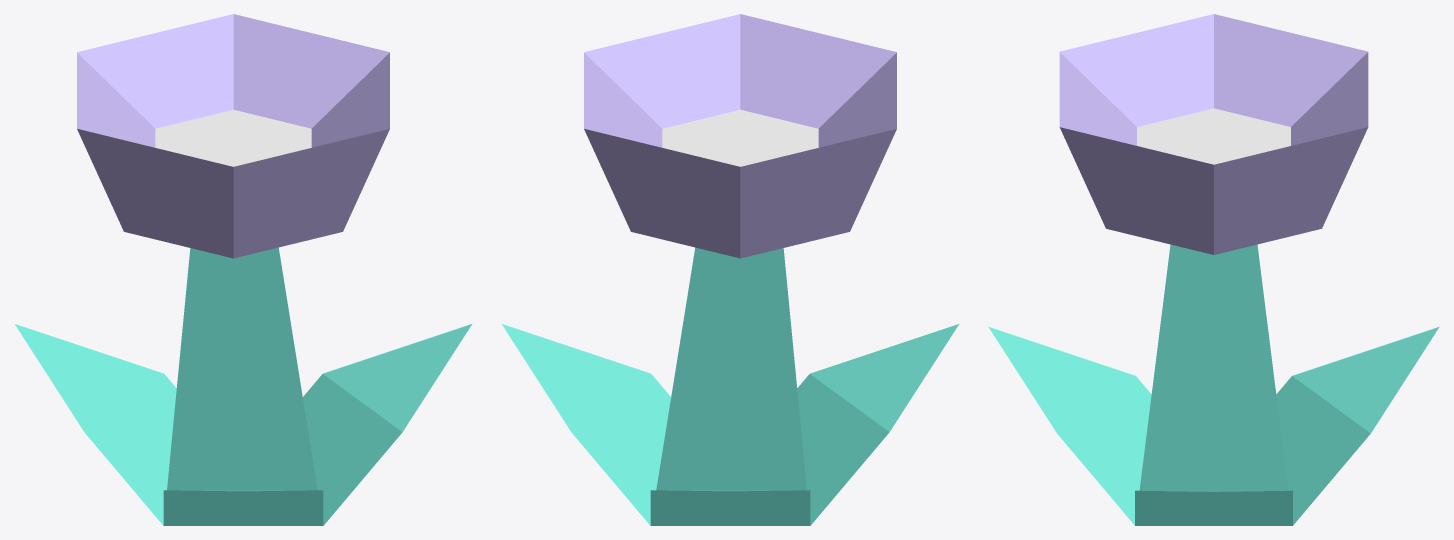
The model's file is flower_purpleC.gltf.
3 renders of one model, left to right at view 1: azimuth 30°, elevation 25°; view 2: azimuth 150°, elevation 25°; view 3: azimuth 270°, elevation 25°, orthographic.
Visible parts, largest first — view 1: flower_purpleC; view 2: flower_purpleC; view 3: flower_purpleC.
Boxes of the visible parts, <box> form: flower_purpleC: <box>15,14,471,525</box>; flower_purpleC: <box>502,14,958,525</box>; flower_purpleC: <box>988,14,1439,525</box>.
Bounding box in the file's own units: 0.1806 × 0.1825 × 0.1811.
